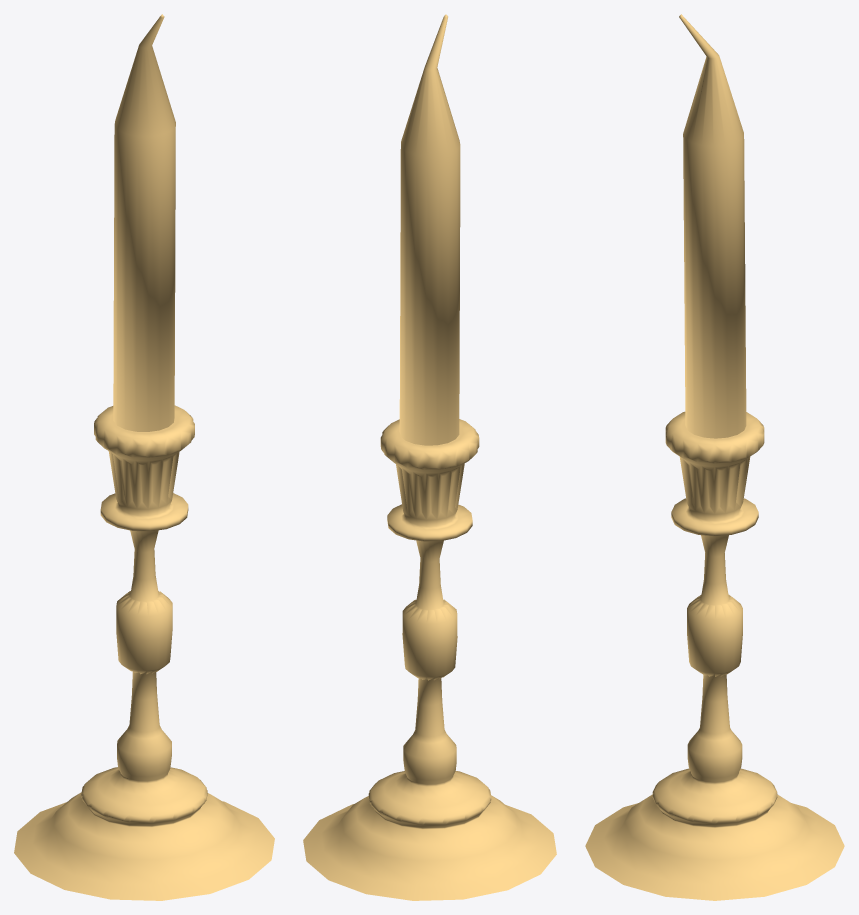
Rendered from cartiçal.gltf.
3 views of the same model, side by side, from view 1: azimuth 30°, elevation 25°; view 2: azimuth 150°, elevation 25°; view 3: azimuth 270°, elevation 25° (orthographic). The views are drawn at different scales.
Parts seen in each view (by area): view 1: Cylinder; view 2: Cylinder; view 3: Cylinder.
Part boxes in pixels (x1,y1,x2,y2): Cylinder: (14,14,274,900); Cylinder: (303,14,556,900); Cylinder: (585,14,844,900).
Size of the model in its own units: 1.88 by 6.67 by 1.88.
